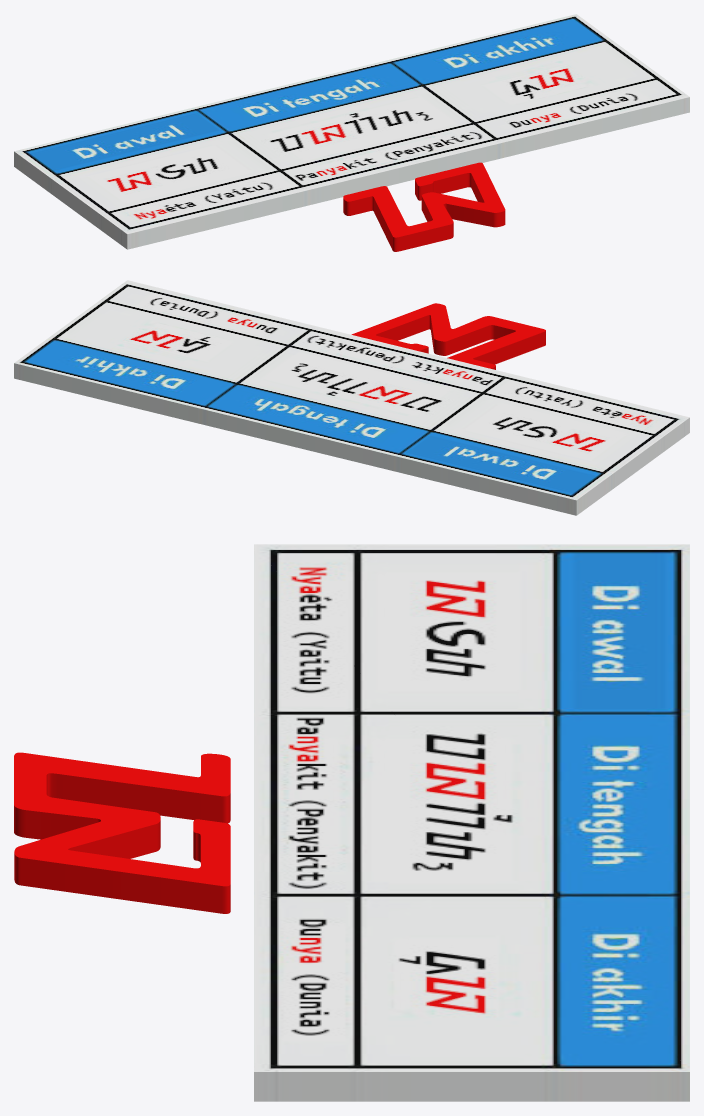
Rendered from nya.fbx.
3 views of the same model, one above another, from view 1: azimuth 30°, elevation 25°; view 2: azimuth 150°, elevation 25°; view 3: azimuth 270°, elevation 25° (orthographic). The views are drawn at different scales.
Parts seen in each view (by area): view 1: contoh-bunyi-huruf-nya-Ngalagena, Text; view 2: contoh-bunyi-huruf-nya-Ngalagena, Text; view 3: contoh-bunyi-huruf-nya-Ngalagena, Text.
Part boxes in pixels (bbox=[...]): contoh-bunyi-huruf-nya-Ngalagena: bbox=[14, 14, 689, 249]; Text: bbox=[343, 162, 505, 251]; contoh-bunyi-huruf-nya-Ngalagena: bbox=[14, 280, 689, 515]; Text: bbox=[351, 303, 545, 369]; contoh-bunyi-huruf-nya-Ngalagena: bbox=[254, 544, 689, 1101]; Text: bbox=[14, 752, 230, 913].
Size of the model in its own units: 2.86 by 0.11 by 1.55.
Materials: 2 (1 with a texture image).
